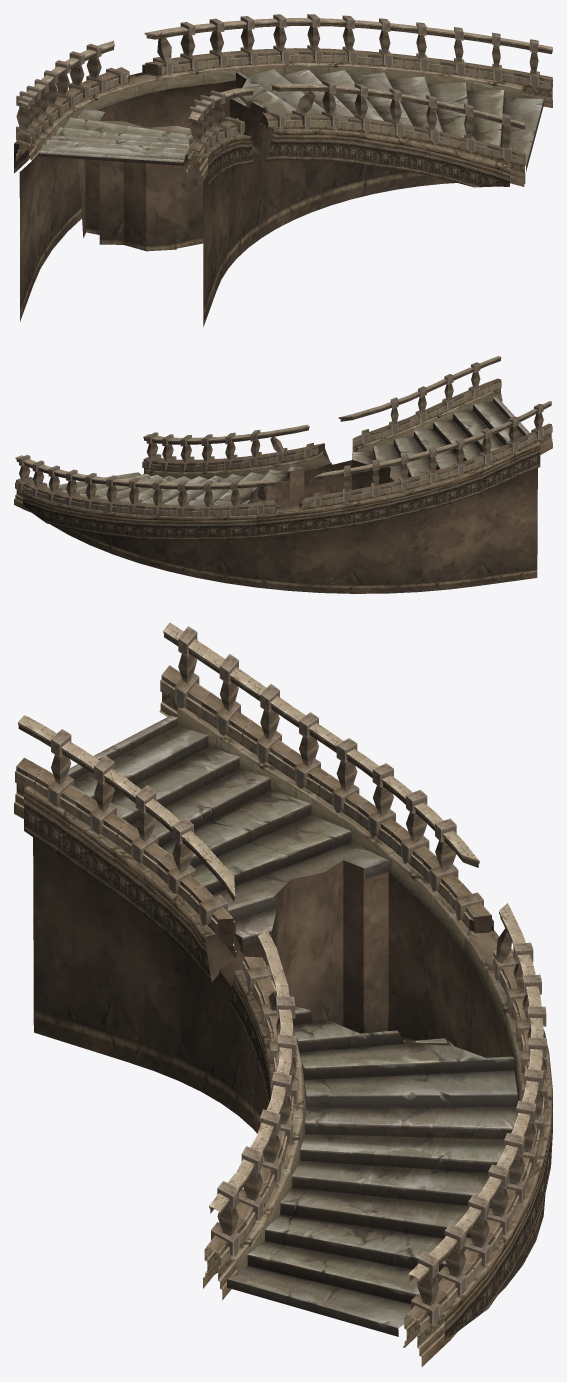
File: blsd4_louti_po_2.FBX
The picture shows the model from 3 angles, top to bottom: view 1: azimuth 30°, elevation 25°; view 2: azimuth 150°, elevation 25°; view 3: azimuth 270°, elevation 25°; orthographic projection. The views are drawn at different scales.
Parts seen in each view (by area): view 1: blsd4_louti_a_004, blsd4_louti_a_005, blsd4_louti_b_005, blsd4_louti_b_004; view 2: blsd4_louti_a_005, blsd4_louti_a_004, blsd4_louti_b_005, blsd4_louti_b_004; view 3: blsd4_louti_a_005, blsd4_louti_a_004, blsd4_louti_b_004, blsd4_louti_b_005.
Boxes of the visible parts, x1=… form: blsd4_louti_a_004: x1=135, y1=62, x2=543, y2=237; blsd4_louti_a_005: x1=14, y1=72, x2=261, y2=326; blsd4_louti_b_005: x1=142, y1=14, x2=552, y2=186; blsd4_louti_b_004: x1=16, y1=40, x2=254, y2=183; blsd4_louti_a_005: x1=256, y1=391, x2=540, y2=593; blsd4_louti_a_004: x1=23, y1=449, x2=332, y2=587; blsd4_louti_b_005: x1=14, y1=424, x2=324, y2=516; blsd4_louti_b_004: x1=299, y1=356, x2=552, y2=509; blsd4_louti_a_005: x1=24, y1=707, x2=498, y2=1115; blsd4_louti_a_004: x1=214, y1=937, x2=552, y2=1339; blsd4_louti_b_004: x1=14, y1=622, x2=493, y2=957; blsd4_louti_b_005: x1=203, y1=903, x2=547, y2=1366.
Size of the model in its own units: 1581 by 555 by 836.
